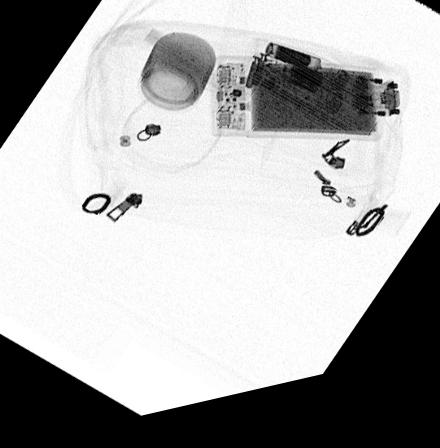Powerbank: (211, 65, 381, 157)
